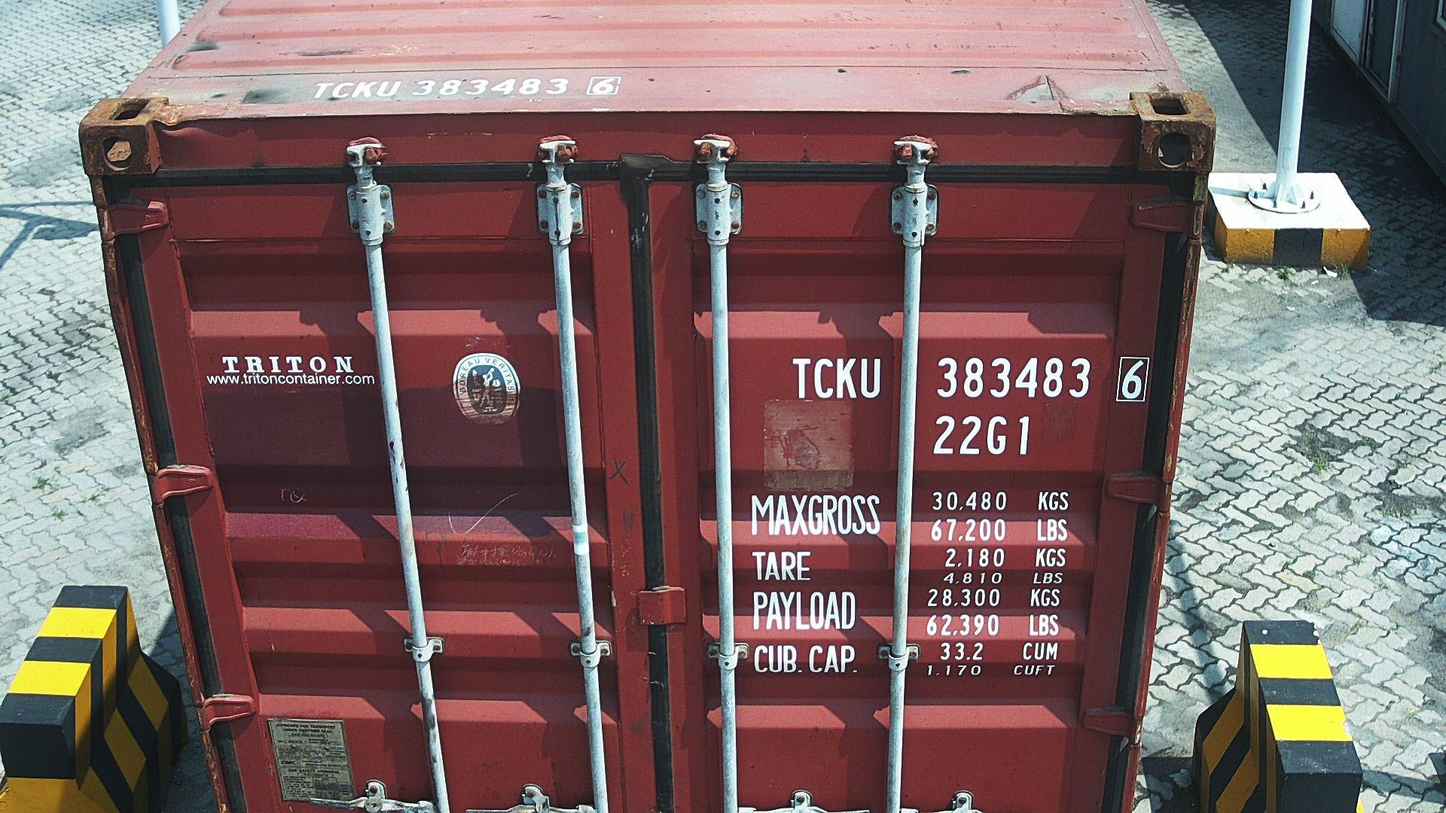container-numbers: (790, 352, 1155, 405), (303, 73, 628, 102), (930, 412, 1037, 458)
